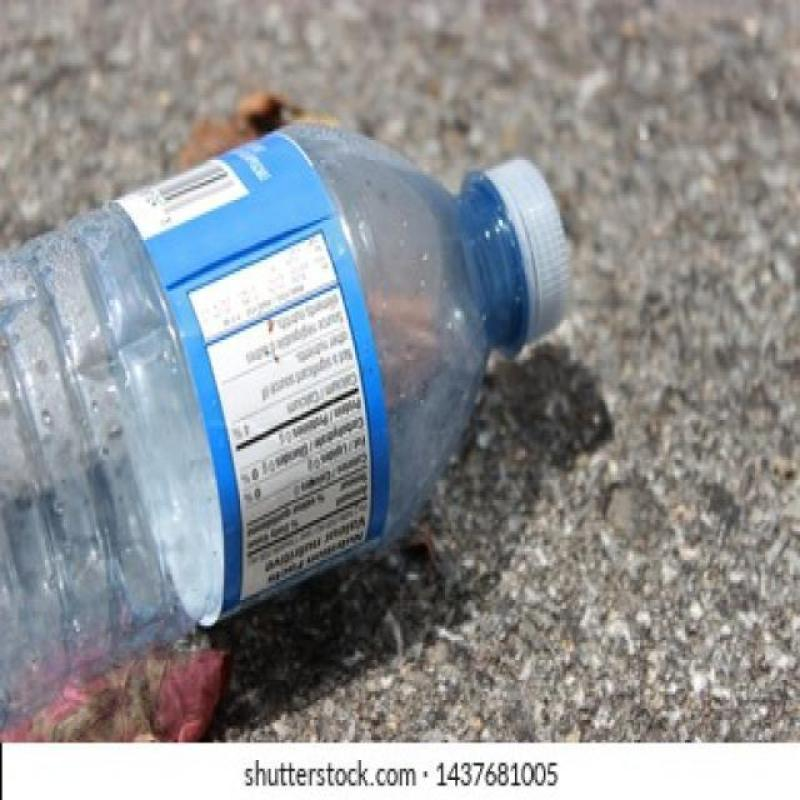botella: (0, 124, 569, 730)
